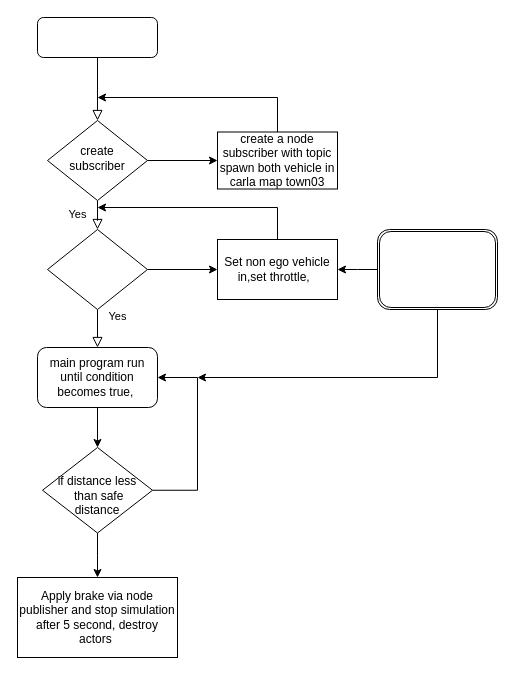
This 515x675 diagram has some shape labels left out. The shapes that lost their labels are listed below. From the top down, each one's centre as x and y in pixels, then its label:
the point at 97,37: Import required libraries
the point at 97,269: call subscriber listener
the point at 437,269: call publisher node to set throttle
